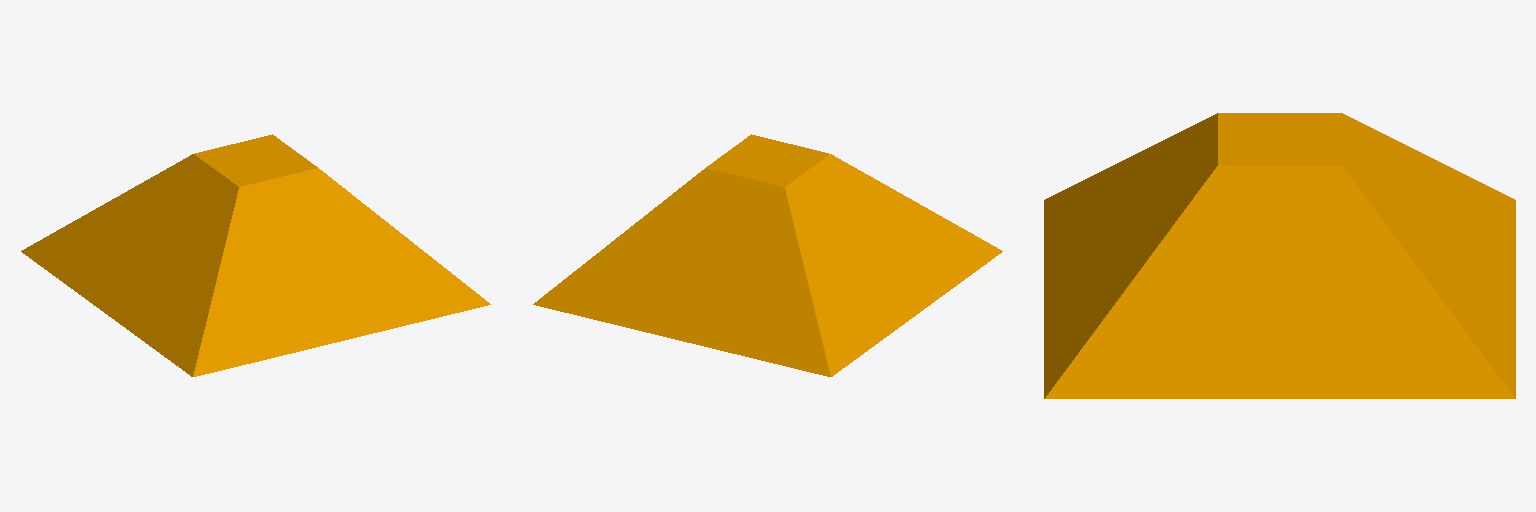
The robot description file, URDF, robot "SquarePyramidCogCenter":
<?xml version="1.0" ?>
<robot xmlns:xacro="http://www.ros.org/wiki/xacro" name="SquarePyramidCogCenter">

    <link name="SquarePyramid">
        <inertial>
            <origin xyz="0.0 0.0 0.0" rpy="0 0 0"/>
            <mass value="1.78"/>
            <inertia ixx="0.026" ixy="0.0" ixz="0.0" iyy="0.026" iyz="0.0" izz="0.046"/>
        </inertial>

        <visual>
            <origin xyz="0.0 0.0 -0.063" rpy="0.0 0.0 0.0"/>
            <geometry>
                <mesh filename="./meshes/square_pyramid/square_pyramid.obj" scale="1 1 1"/>
            </geometry>
        </visual>

        <collision>
            <origin xyz="0.0 0.0 -0.063" rpy="0.0 0.0 0.0"/>
            <geometry>
                <mesh filename="./meshes/square_pyramid/square_pyramid.obj" scale="1 1 1"/>
            </geometry>
        </collision>
    </link>

</robot>

--- What the picture shows (computed from the rendered views, not written in the file) ---
The picture shows the robot from 3 angles, left to right: view 1: azimuth 30°, elevation 25°; view 2: azimuth 150°, elevation 25°; view 3: azimuth 270°, elevation 25°; orthographic projection.
Model SquarePyramidCogCenter with 1 links and 0 joints (none), rooted at SquarePyramid, posed all joints at 0.
Visible links, largest first — view 1: SquarePyramid; view 2: SquarePyramid; view 3: SquarePyramid.
Link boxes in pixels (box(x1,y1,x2,y2)): SquarePyramid: box(21, 134, 490, 376); SquarePyramid: box(533, 134, 1002, 376); SquarePyramid: box(1044, 113, 1515, 398).
Size in the robot's own frame: 0.4 by 0.4 by 0.15 metres.
1 mesh visuals loaded from 1 distinct referenced files (1 OBJ).
